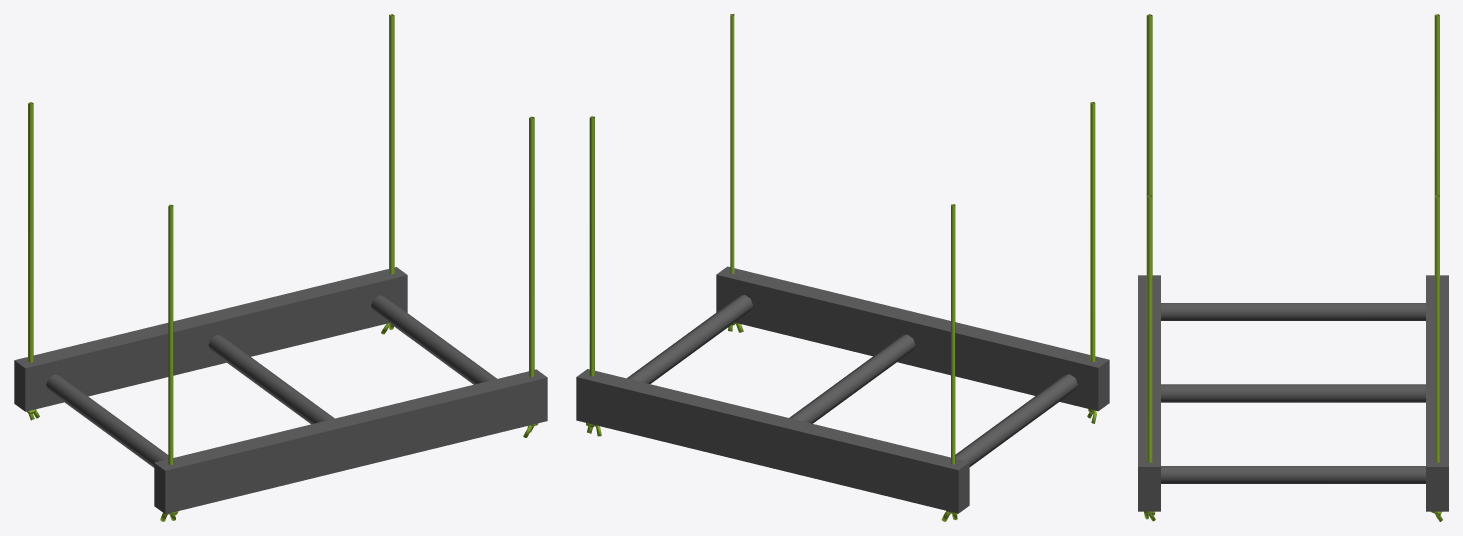
The model's file is mw_kitchen_rack.FBX.
3 views of the same model, side by side, from view 1: azimuth 30°, elevation 25°; view 2: azimuth 150°, elevation 25°; view 3: azimuth 270°, elevation 25° (orthographic). The views are drawn at different scales.
Visible parts, largest first — view 1: mw_kitchen_rack; view 2: mw_kitchen_rack; view 3: mw_kitchen_rack.
Boxes of the visible parts, x1=… form: mw_kitchen_rack: x1=14, y1=14, x2=547, y2=521; mw_kitchen_rack: x1=576, y1=14, x2=1109, y2=521; mw_kitchen_rack: x1=1138, y1=14, x2=1448, y2=521.
Bounding box in the file's own units: 134 × 107 × 92.04.
